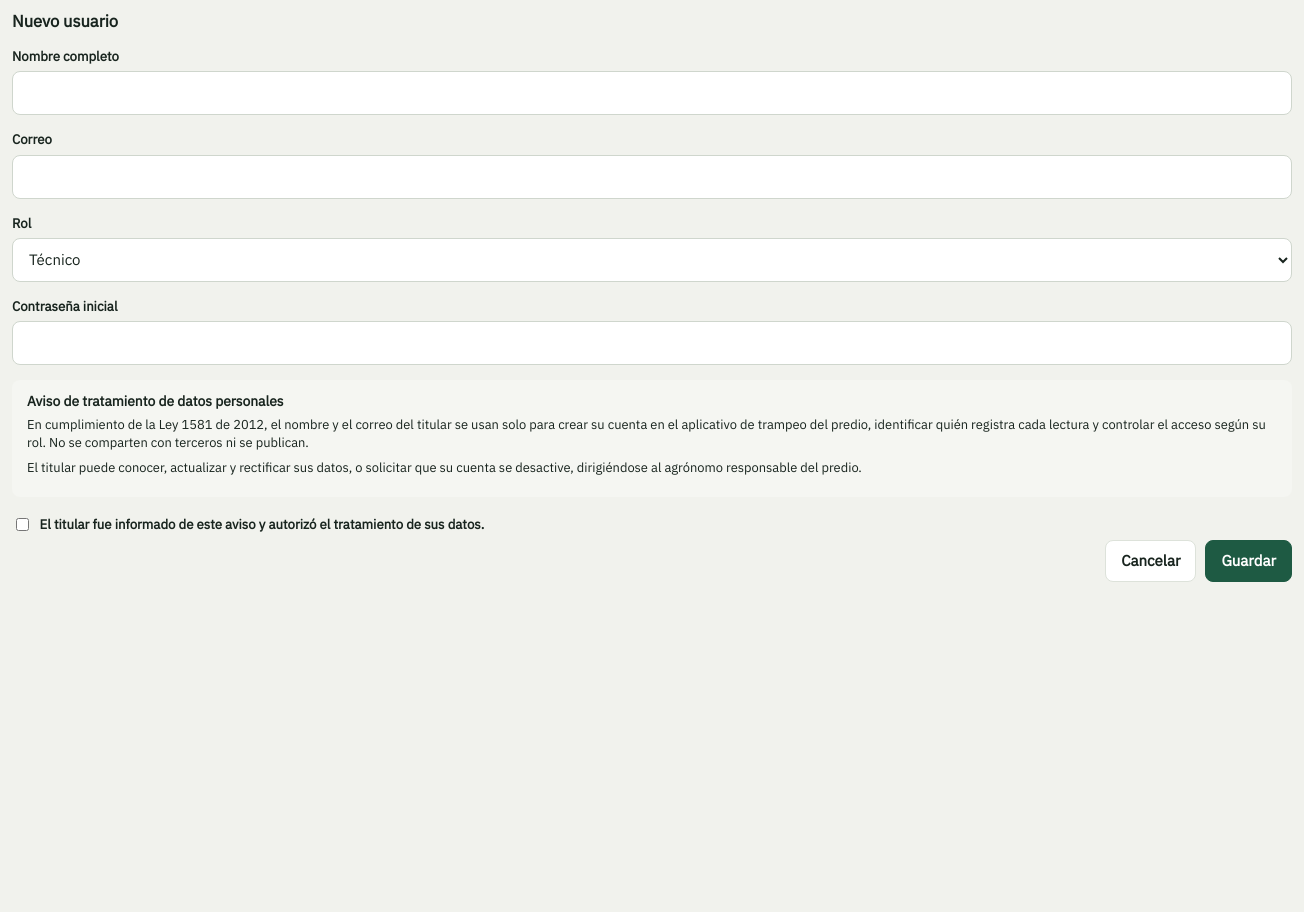
Test: FormularioUsuario › muestra el mensaje del servidor si el correo ya existe
In the field labelled "Nombre completo": x=652, y=93 12,71 -> 1292,115, type "Luis Gómez"
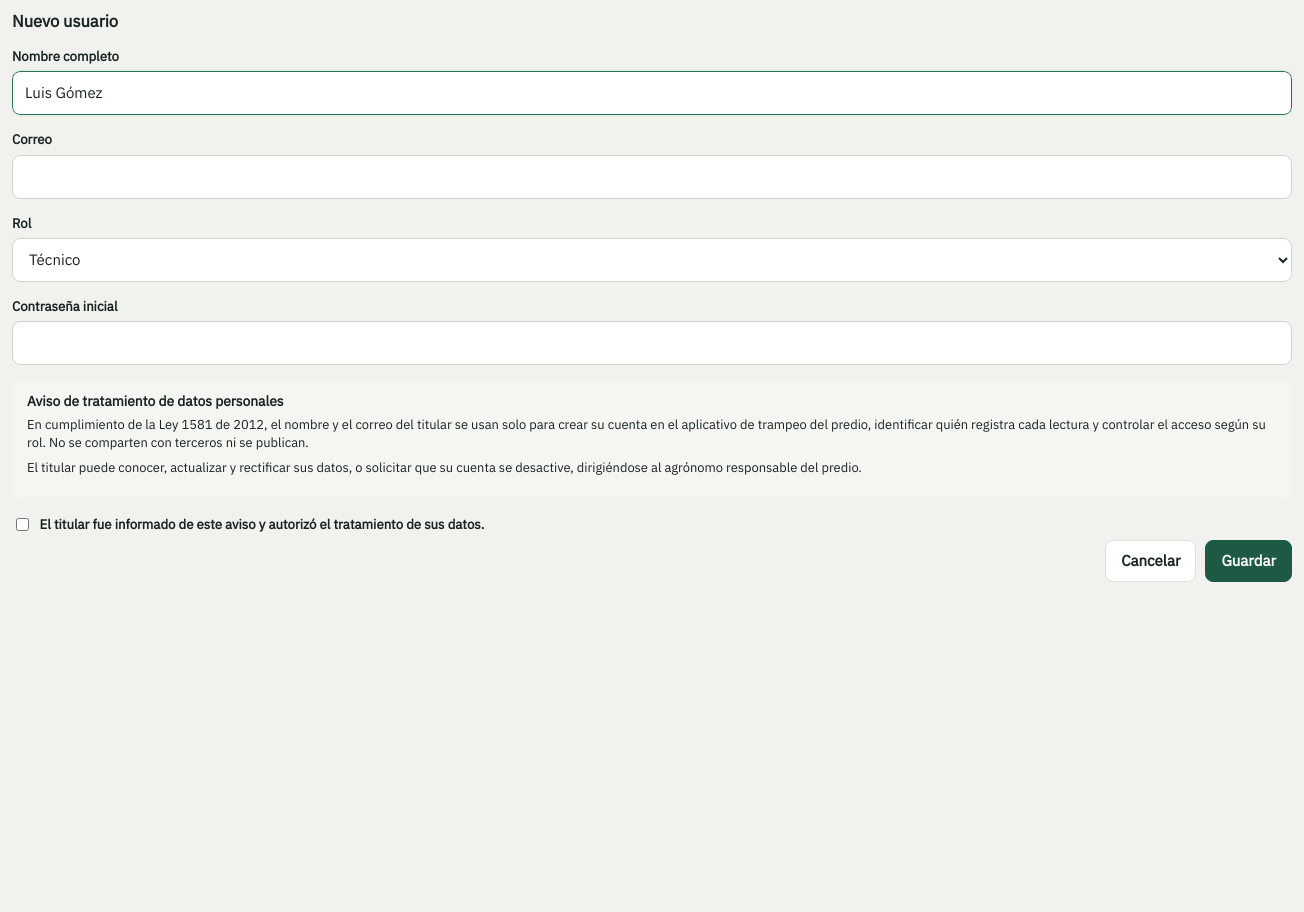
In the field labelled "Correo": x=652, y=177 12,155 -> 1292,199, type "luis@ejemplo.com"
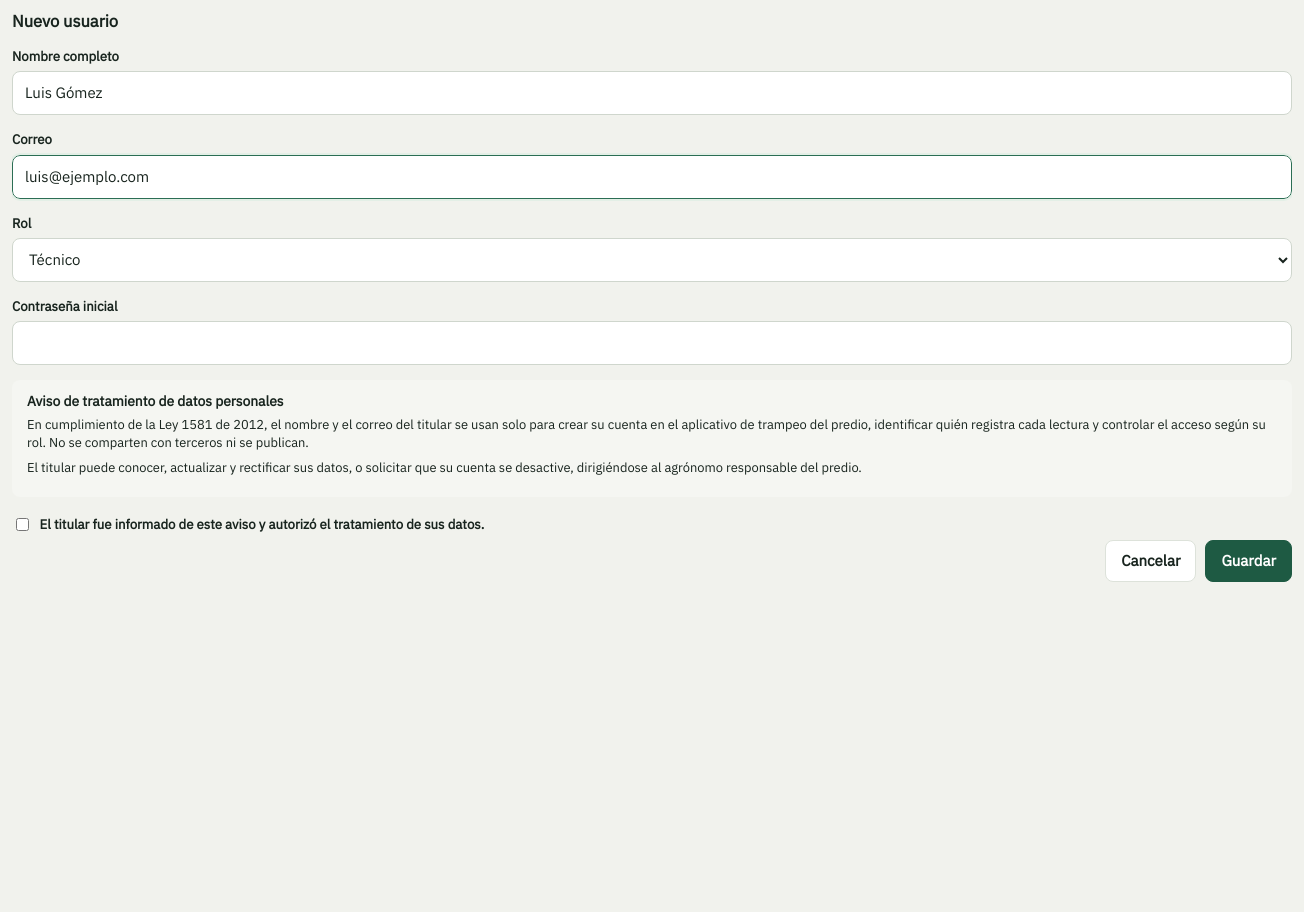
Select "Productor" in the dropdown labelled "Rol": x=652, y=260 12,238 -> 1292,282
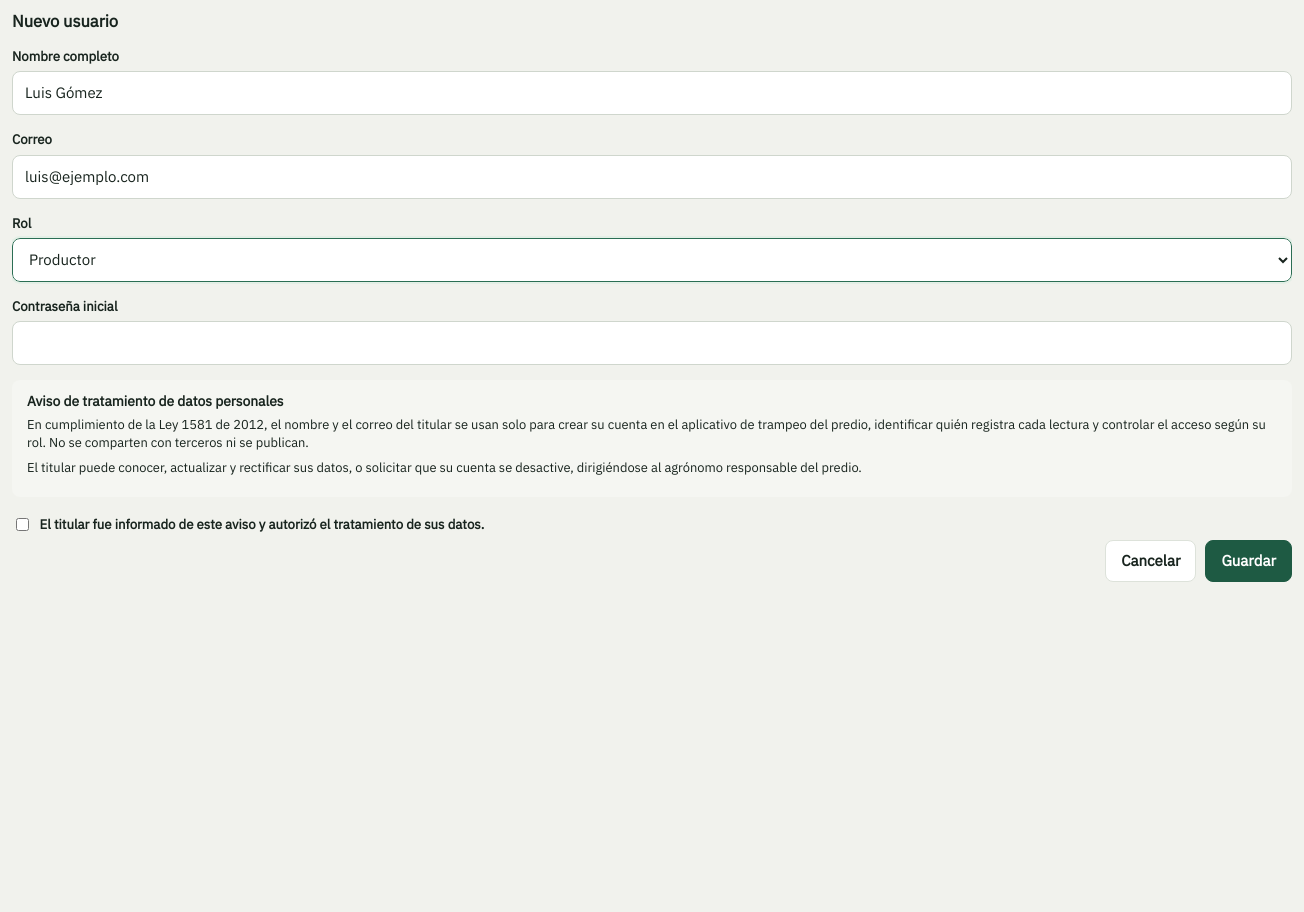
In the password field labelled "Contraseña inicial": x=652, y=343 12,321 -> 1292,365, type "clave-segura-1"
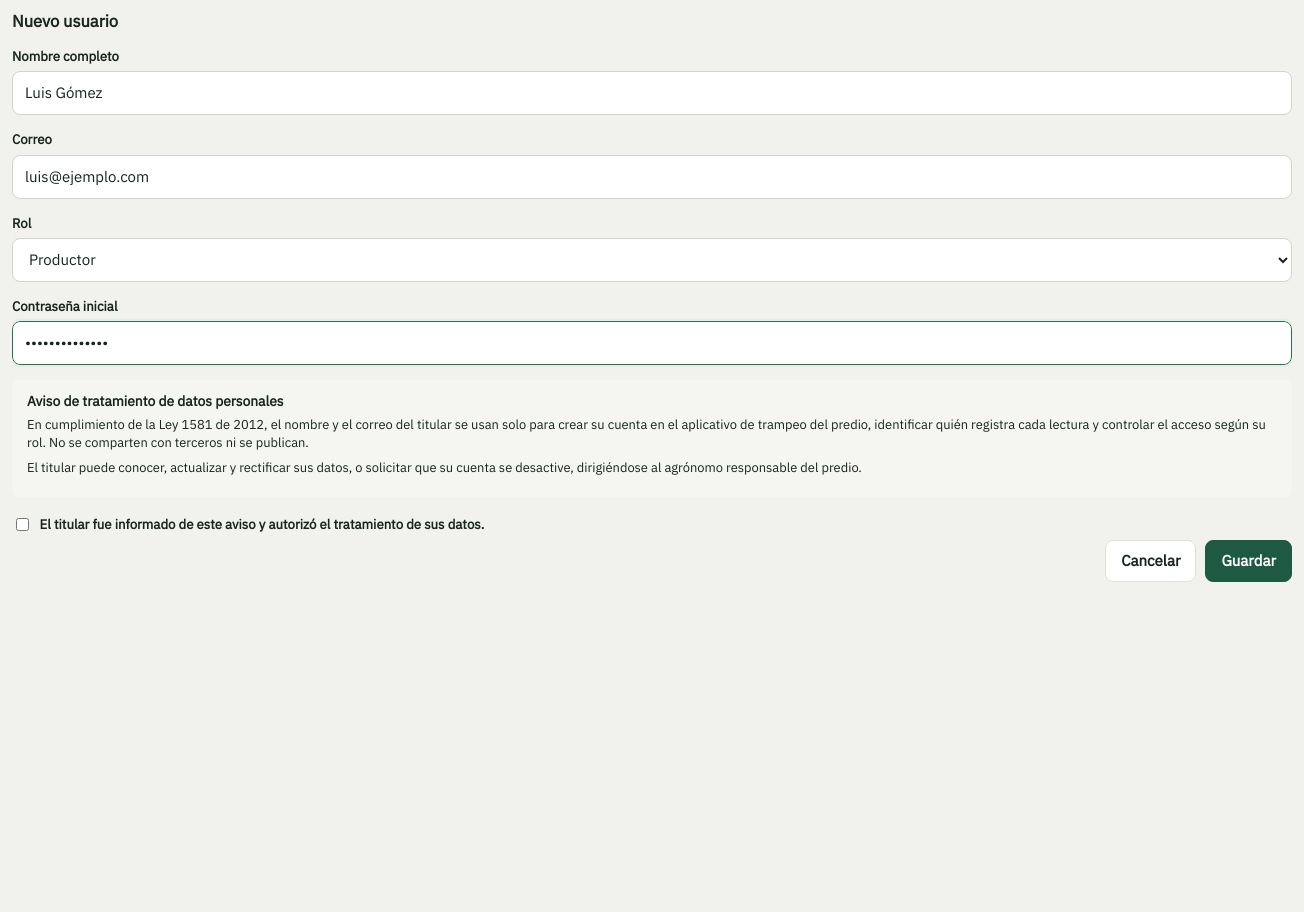
Click the checkbox: x=22, y=525 16,518 -> 29,531
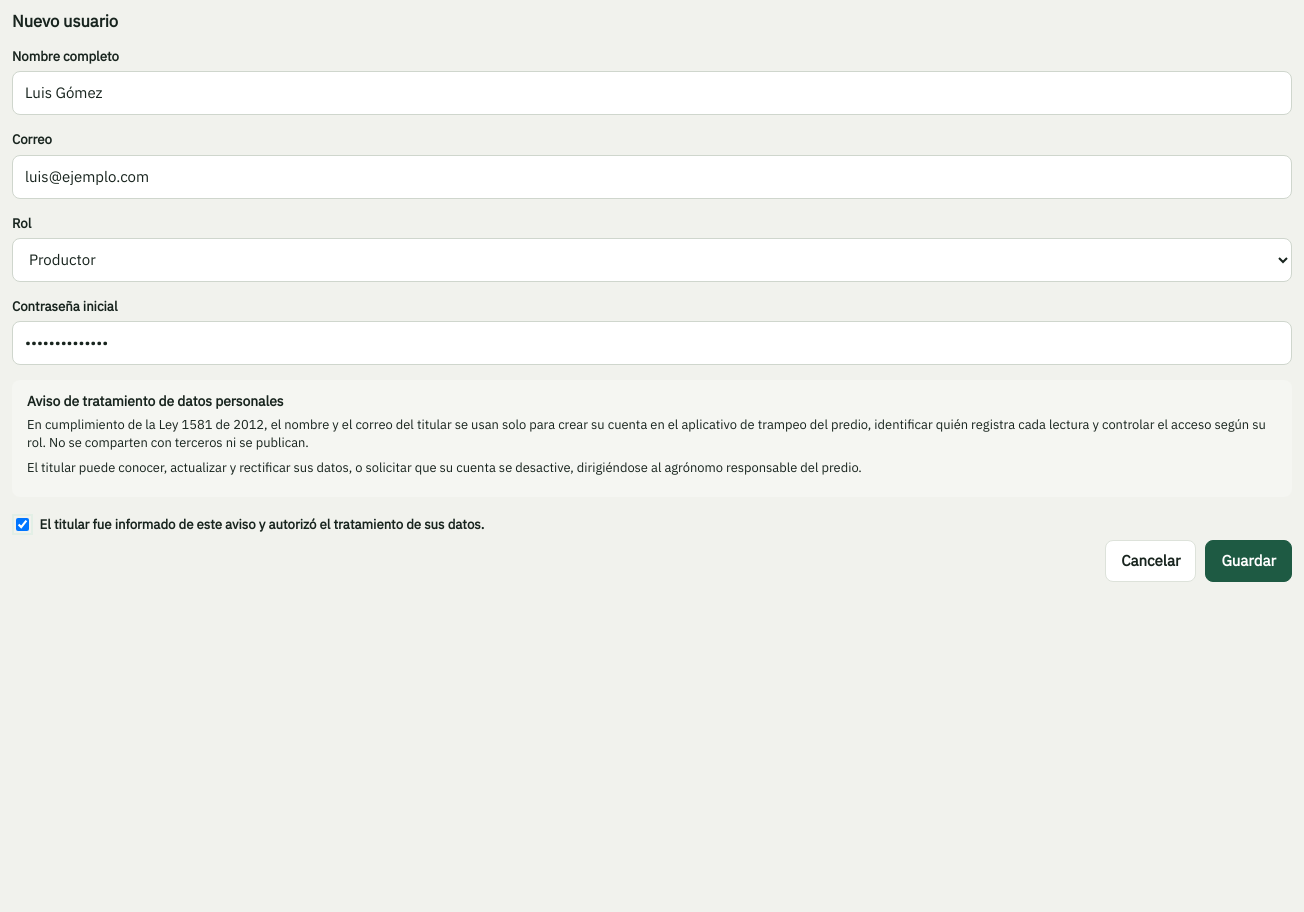
Click the button "Guardar": x=1249, y=561 1205,540 -> 1292,582
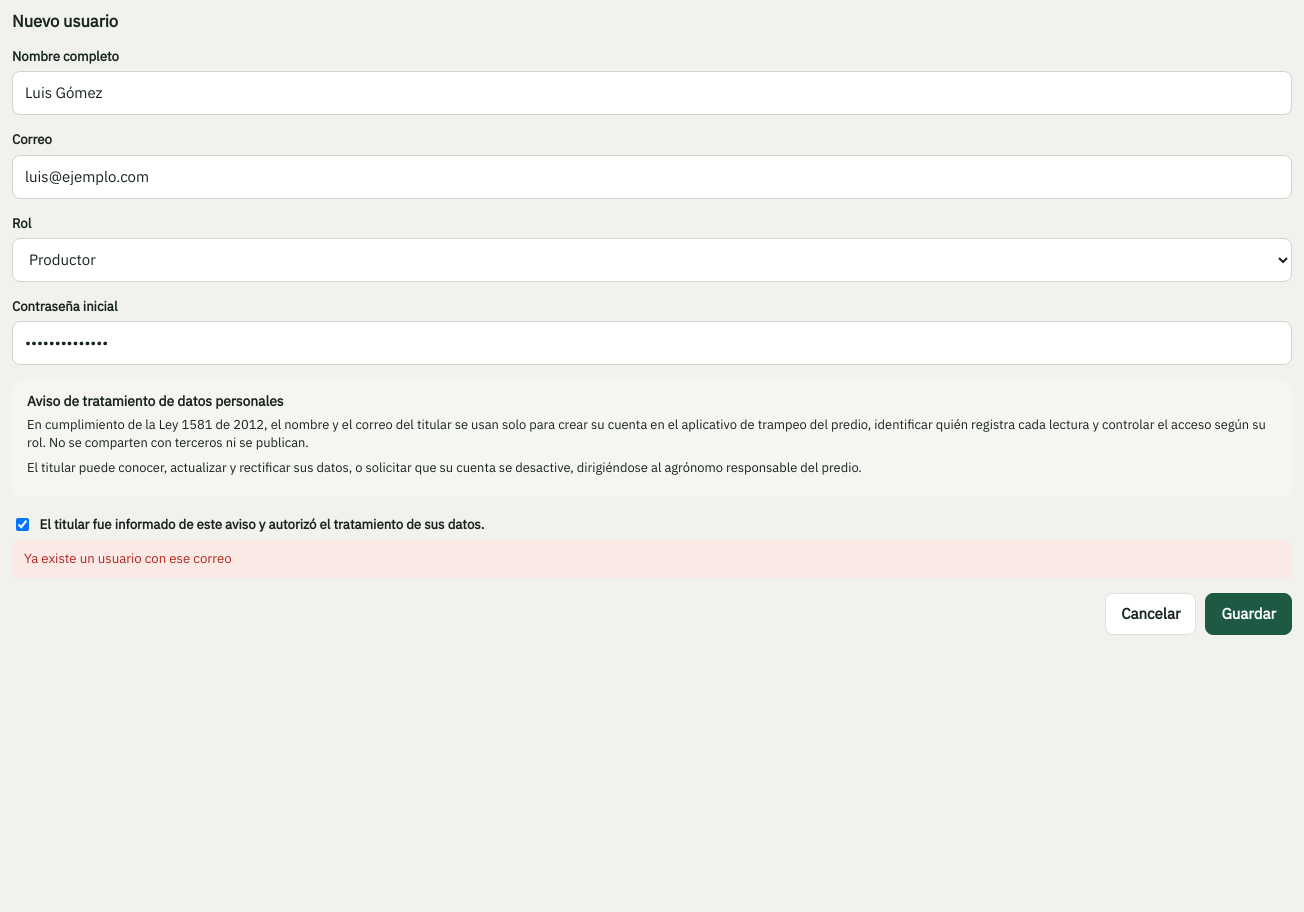
Expected: the button "Guardar" is enabled, 1205,593 -> 1292,635
Expected: the message reads "Ya existe un usuario con ese correo", 24,549 -> 232,567
